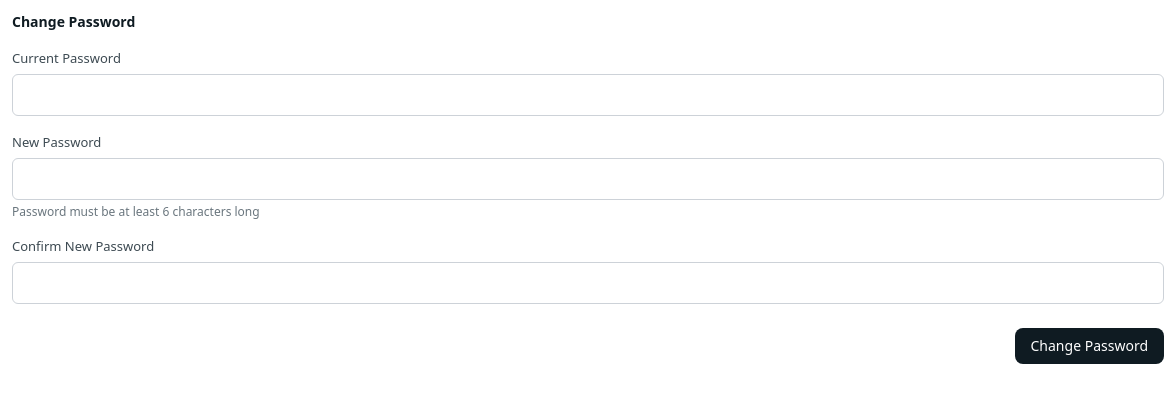
Test: ProfilePasswordForm › shows API failure {"status":400,"code":"PASSWORD_INCORRECT","message":"current password is incorrect"} inline
Step 1. Type "old-password" into the password field with id "old_password" → (588, 95), box [12,74,1164,116]
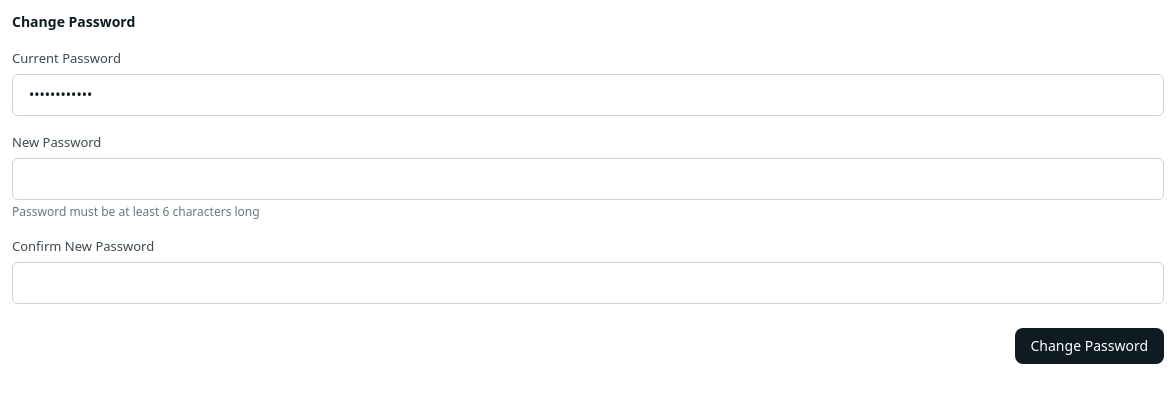
Step 2. Type "new-password" into the password field with id "new_password" → (588, 179), box [12,158,1164,200]
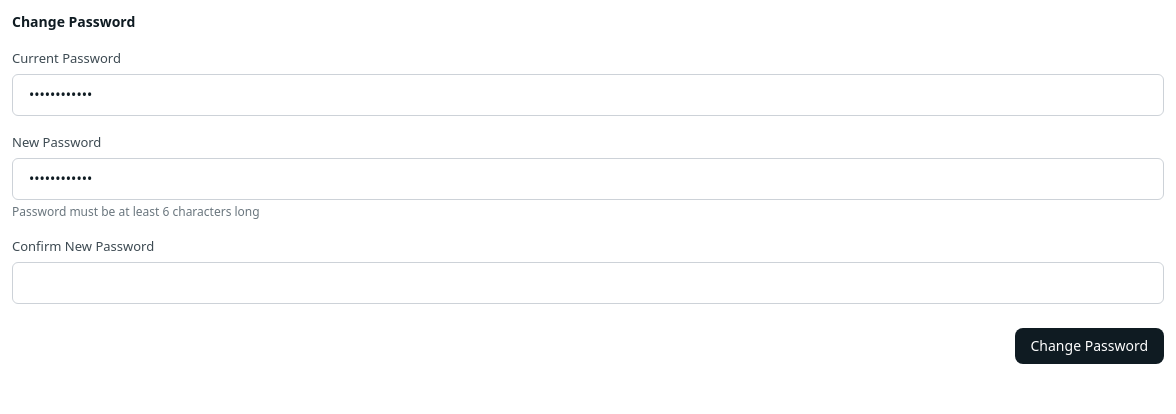
Step 3. Type "new-password" into the password field with id "confirm_password" → (588, 283), box [12,262,1164,304]
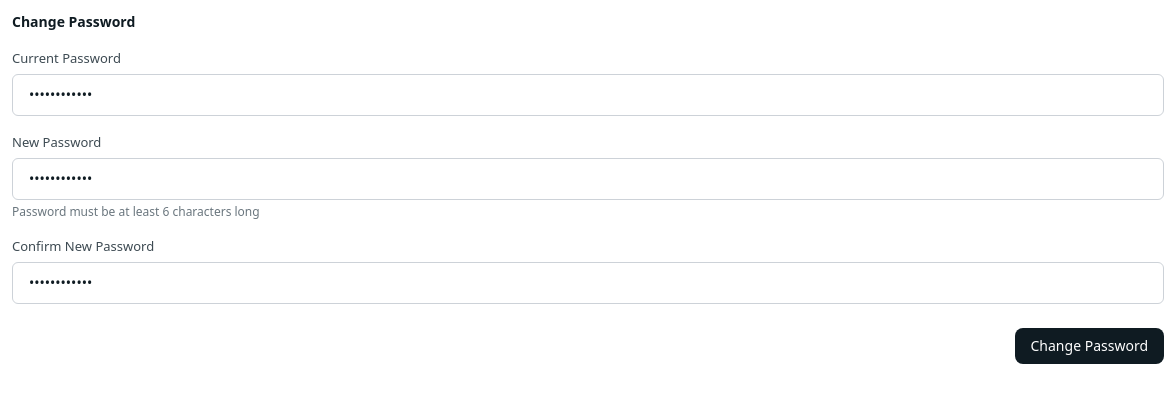
Step 4. Submit the form
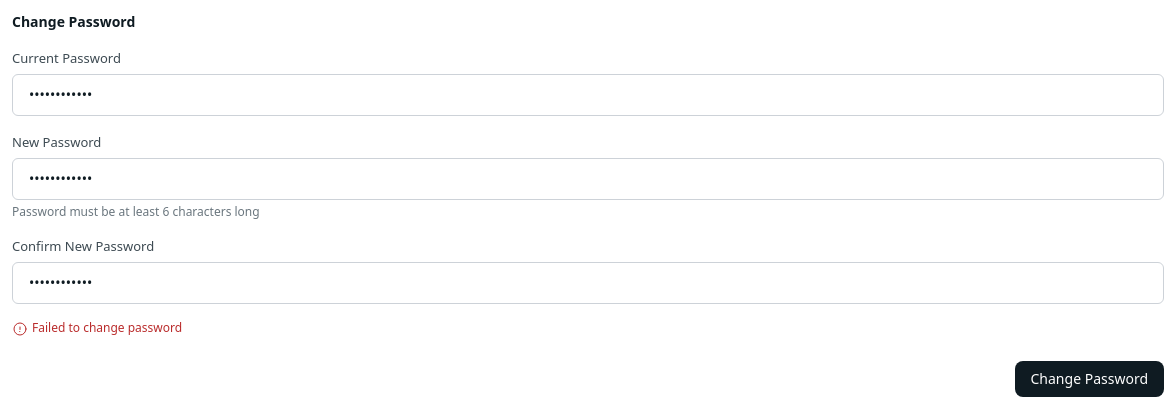
Now the message with class "input-error-text" reads "Failed to change password", box [32,319,182,336]
